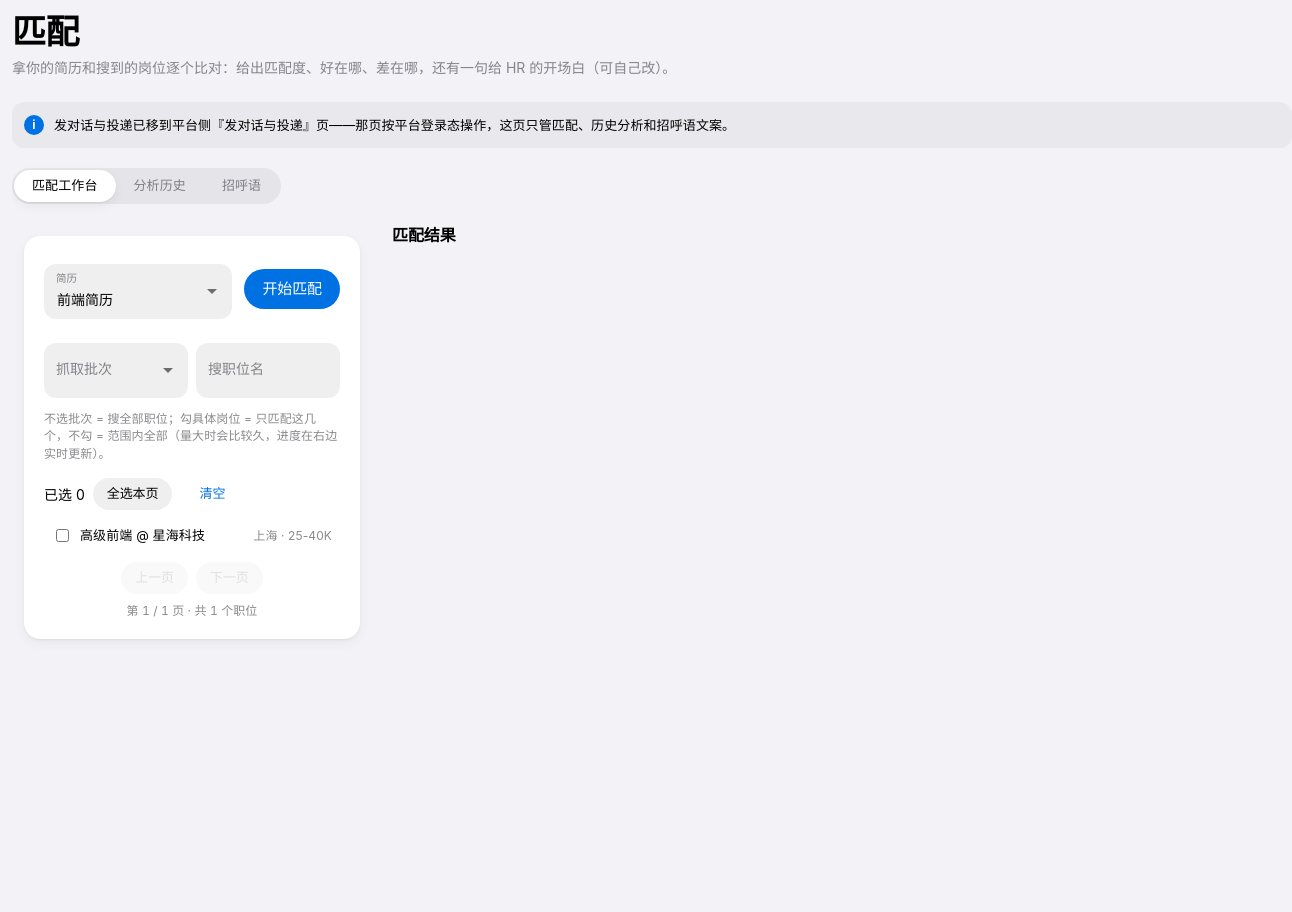
Test: MatchPage 招呼语 › 表头左侧标题「打招呼语」+ 右侧动作（对齐分析历史表头）
Step 1. Click the radio button labelled "招呼语" → (242, 186), box [204,170,279,202]
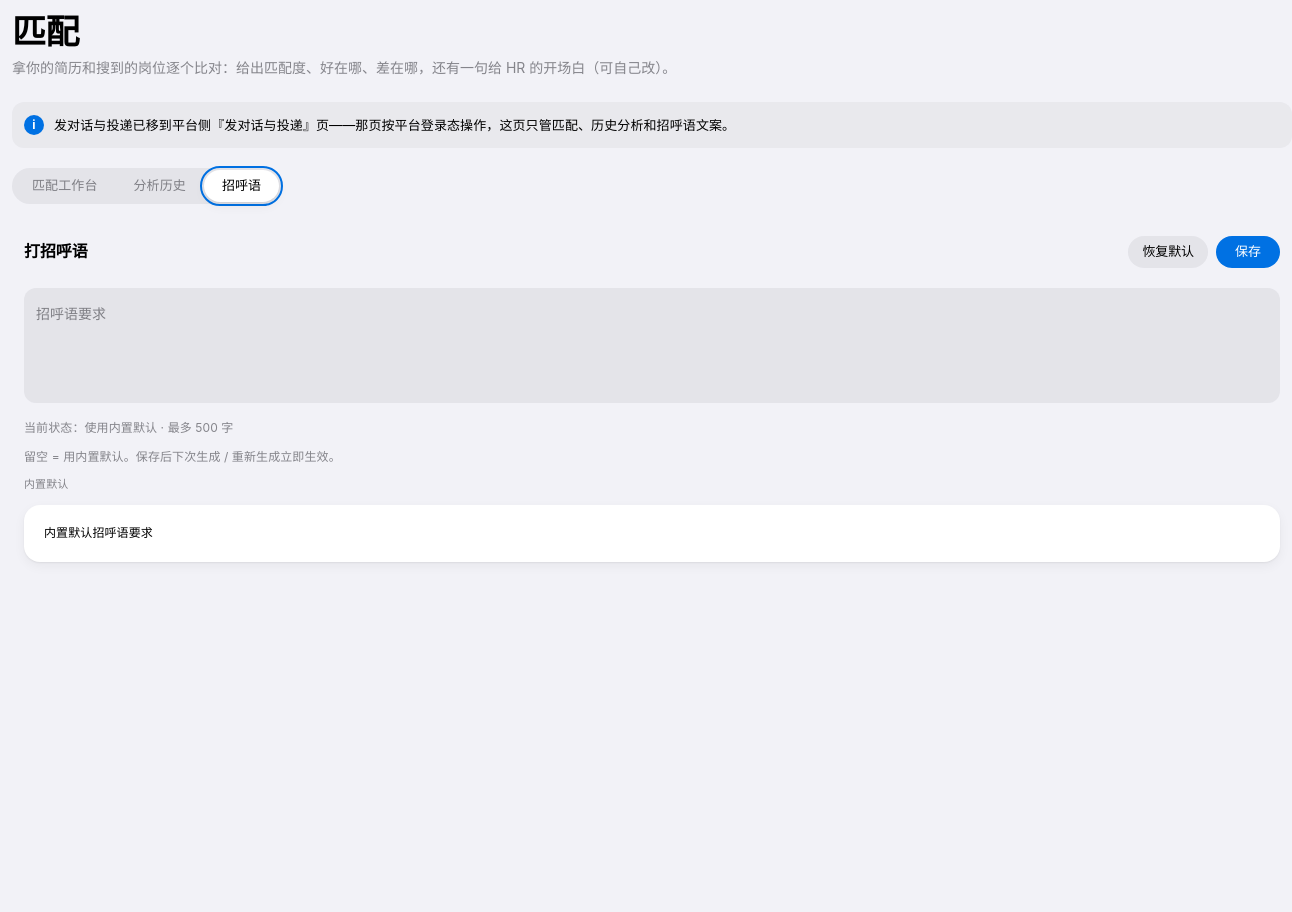
Expected: the text "打招呼语" is shown, [24,241,88,261]
